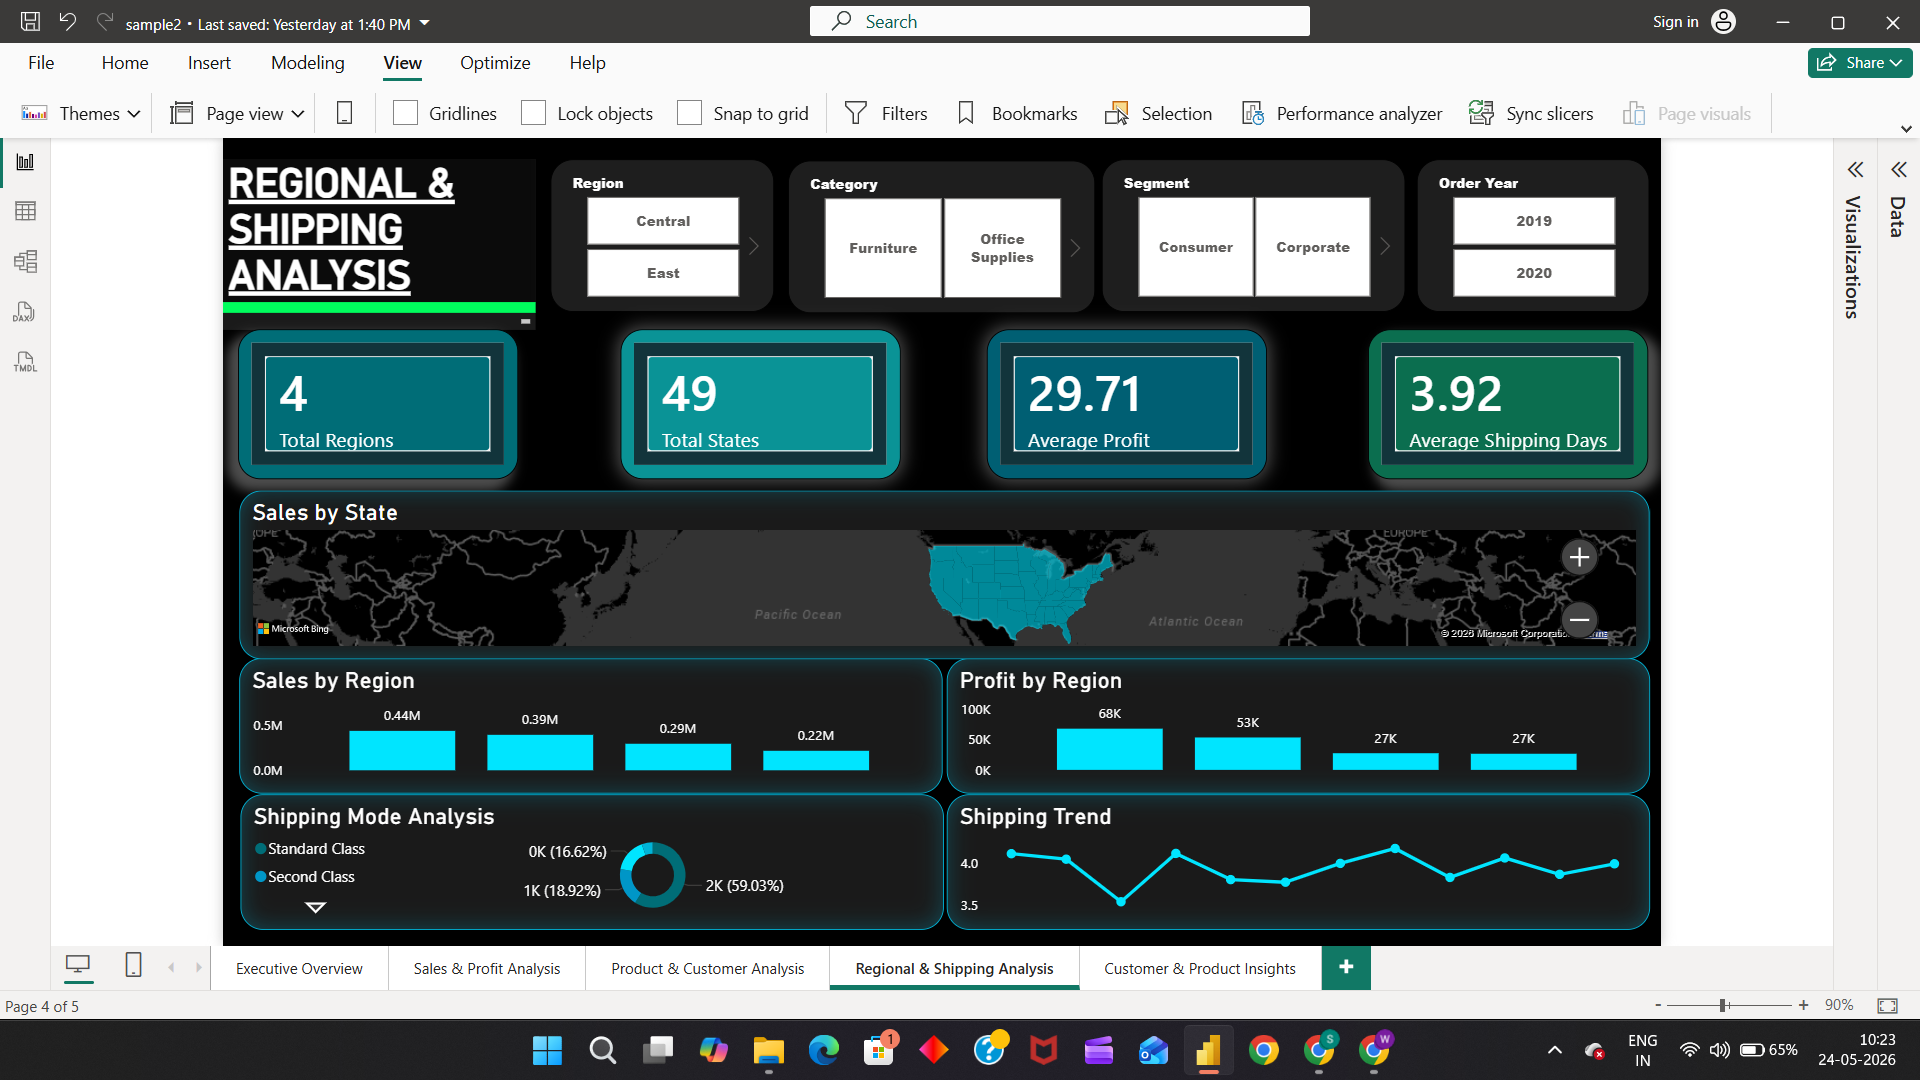

Layout of this report page (visuals, bound fields, positions):
{"tool":"powerbi","page":{"name":"Regional & Shipping Analysis","canvas":[1280,720],"ordinal":3},"visuals":[{"type":"textbox","title":"REGIONAL & SHIPPING ANALYSIS","box":[0,19.3,278.7,152],"z":0},{"type":"slicer","fields":{"Values":["Orders.Order Year"]},"box":[1062.9,19.3,207.5,136.3],"z":1000},{"type":"slicer","fields":{"Values":["Orders.Segment"]},"box":[783,19.3,270.2,136.3],"z":2000},{"type":"slicer","fields":{"Values":["Orders.Category"]},"box":[503.1,20.5,273.9,136.3],"z":3000},{"type":"slicer","fields":{"Values":["Orders.Region"]},"box":[292,19.3,199.1,136.3],"z":4000},{"type":"cardVisual","fields":{"Data":["Orders.Total States"]},"box":[353.5,170.4,250,133.8],"z":5000},{"type":"cardVisual","fields":{"Data":["Orders.Average Profit"]},"box":[680.5,170.4,250,133.8],"z":6000},{"type":"cardVisual","fields":{"Data":["Orders.Average Shipping Days"]},"box":[1020.2,170.4,250,133.8],"z":7000},{"type":"cardVisual","fields":{"Data":["Orders.Total Regions"]},"box":[13.9,170.4,250,133.8],"z":8000},{"type":"clusteredColumnChart","title":"Sales by Region","fields":{"Category":["Orders.Region"],"Y":["Orders.Total Sales"]},"box":[14.5,463.3,626.1,121],"z":9000},{"type":"clusteredColumnChart","title":"Profit by Region","fields":{"Category":["Orders.Region"],"Y":["Orders.Total Profit"]},"box":[644.2,463.3,626.1,120.6],"z":10000},{"type":"filledMap","title":"Sales by State","fields":{"Category":["Orders.State"]},"box":[14.5,313.7,1255.9,150],"z":11000},{"type":"donutChart","title":"Shipping Mode Analysis","fields":{"Category":["Orders.Ship Mode"],"Y":["Orders.Total Orders"]},"box":[15.7,583.9,626.1,120.6],"z":12000},{"type":"lineChart","title":"Shipping Trend","fields":{"Category":["Orders.Month"],"Y":["Orders.Average Shipping Days"]},"box":[644.2,583.9,626.1,120.6],"z":13000}]}

Visuals, with their boxes on the page's 1280x720 design canvas (x1, y1, x2, y2). These are canvas units, not pixel positions in the 1920x1080 screenshot, which may show the page scaled, cropped or inside an application window:
"REGIONAL & SHIPPING ANALYSIS" textbox: Rect(0, 19, 279, 171)
slicer - Orders.Order Year: Rect(1063, 19, 1270, 156)
slicer - Orders.Segment: Rect(783, 19, 1053, 156)
slicer - Orders.Category: Rect(503, 20, 777, 157)
slicer - Orders.Region: Rect(292, 19, 491, 156)
cardVisual - Orders.Total States: Rect(354, 170, 604, 304)
cardVisual - Orders.Average Profit: Rect(680, 170, 930, 304)
cardVisual - Orders.Average Shipping Days: Rect(1020, 170, 1270, 304)
cardVisual - Orders.Total Regions: Rect(14, 170, 264, 304)
"Sales by Region" clusteredColumnChart: Rect(14, 463, 641, 584)
"Profit by Region" clusteredColumnChart: Rect(644, 463, 1270, 584)
"Sales by State" filledMap: Rect(14, 314, 1270, 464)
"Shipping Mode Analysis" donutChart: Rect(16, 584, 642, 704)
"Shipping Trend" lineChart: Rect(644, 584, 1270, 704)
